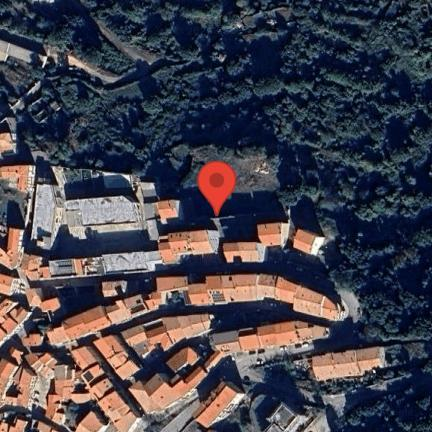area_open: (226, 353, 318, 423)
built: (0, 273, 341, 428), (2, 204, 225, 341), (87, 320, 328, 432), (38, 313, 216, 426), (36, 170, 142, 243), (223, 222, 318, 264), (170, 379, 244, 430), (315, 352, 384, 380), (3, 137, 36, 195), (268, 401, 296, 428)
vegetation_high: (3, 6, 429, 342), (328, 349, 428, 428)
